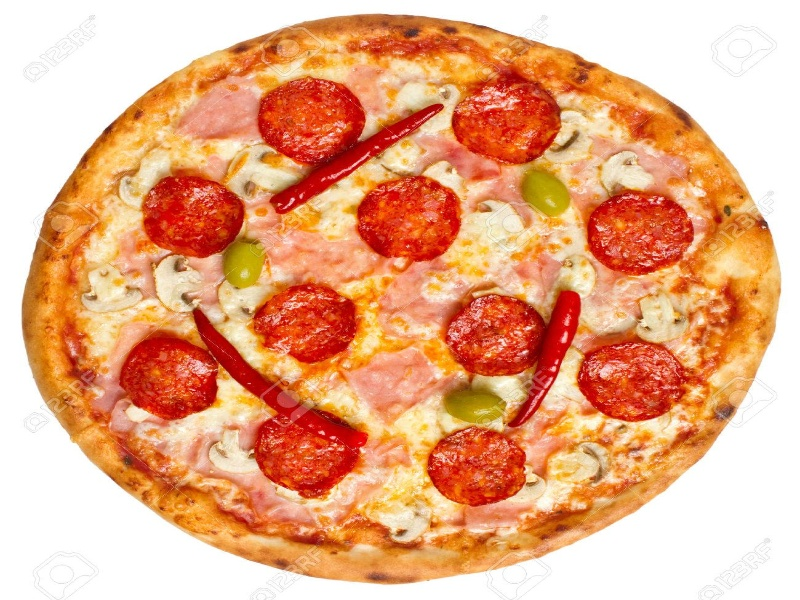olive verte: (513, 164, 575, 220), (437, 389, 513, 422), (224, 243, 264, 291)
pepperonis: (583, 332, 692, 425), (243, 74, 360, 160), (112, 325, 214, 422), (444, 288, 545, 380), (253, 413, 355, 500), (362, 179, 464, 264), (136, 173, 240, 256), (255, 286, 361, 367), (595, 190, 692, 277), (462, 75, 553, 163), (424, 431, 531, 504)
